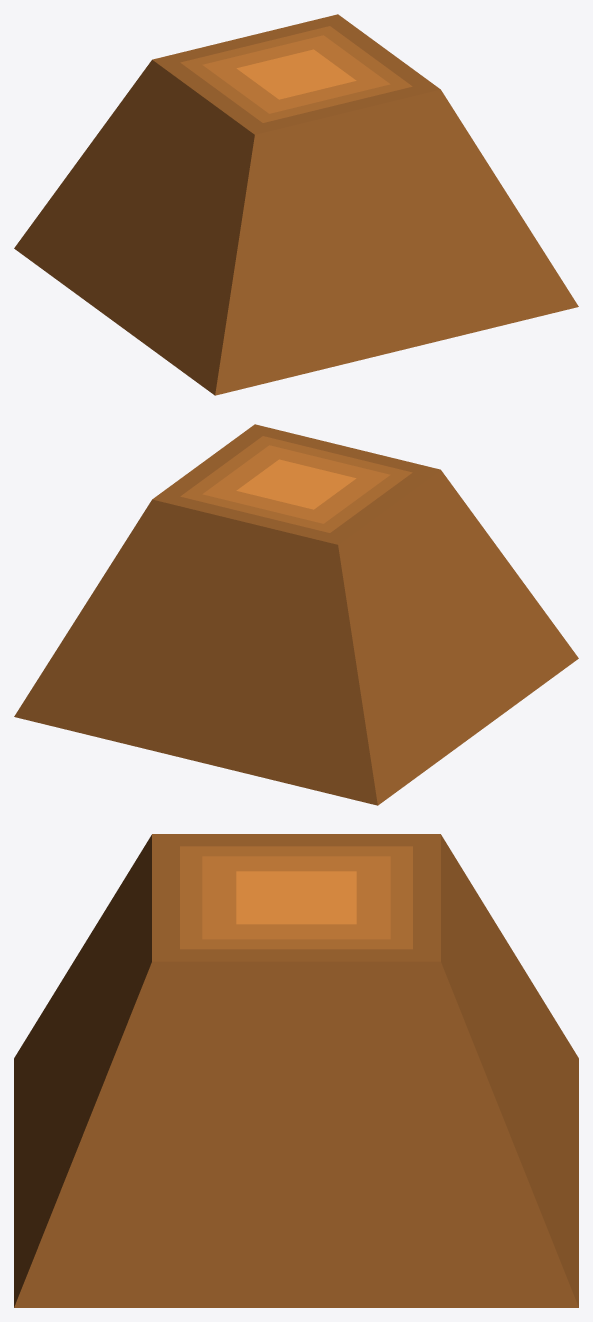
Rendered from Log.fbx.
The picture shows the model from 3 angles, top to bottom: view 1: azimuth 30°, elevation 25°; view 2: azimuth 150°, elevation 25°; view 3: azimuth 270°, elevation 25°; orthographic projection. The views are drawn at different scales.
Visible parts, largest first — view 1: Log; view 2: Log; view 3: Log.
Boxes of the visible parts, x1,y1,x2,y2 form: Log: (14,14,578,395); Log: (14,424,578,805); Log: (14,834,578,1307).
Bounding box in the file's own units: 201 × 107 × 193.
